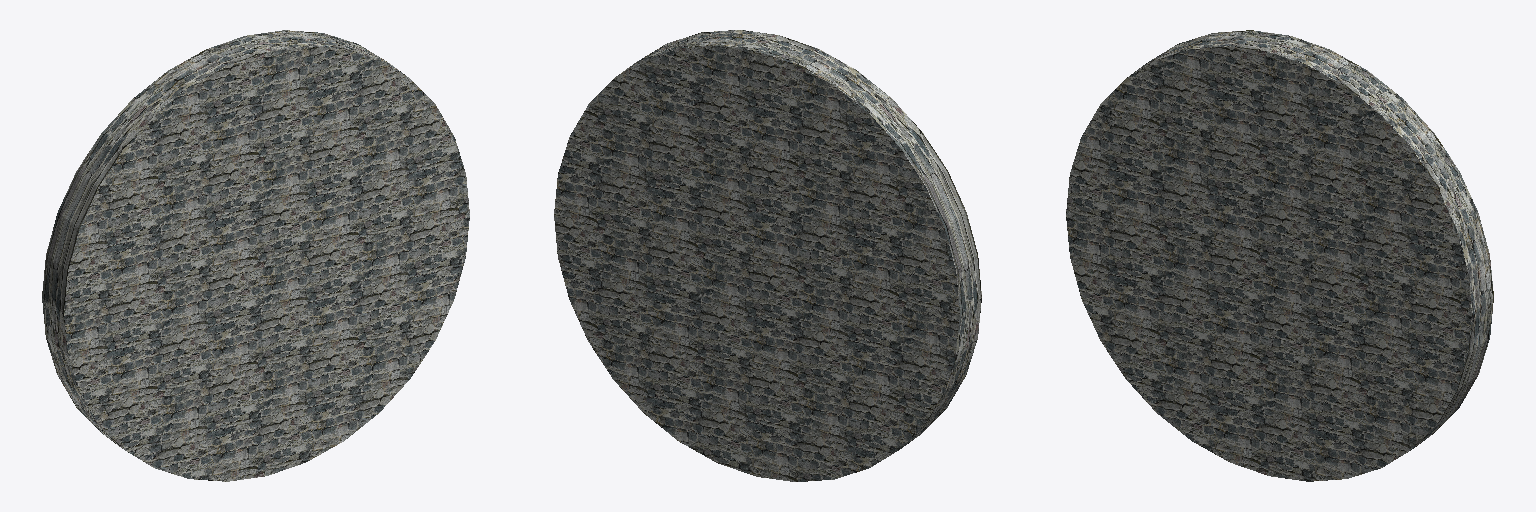
3 renders of one model, left to right at view 1: azimuth 30°, elevation 25°; view 2: azimuth 150°, elevation 25°; view 3: azimuth 330°, elevation 25°, orthographic.
Visible parts, largest first — view 1: Cylinder1; view 2: Cylinder1; view 3: Cylinder1.
Part boxes in pixels (x1,y1,x2,y2): Cylinder1: (42,30,469,481); Cylinder1: (554,30,981,481); Cylinder1: (1066,30,1493,481).
Bounding box in the file's own units: 1.96 × 1.96 × 0.1915.
1 materials, 1 textured.